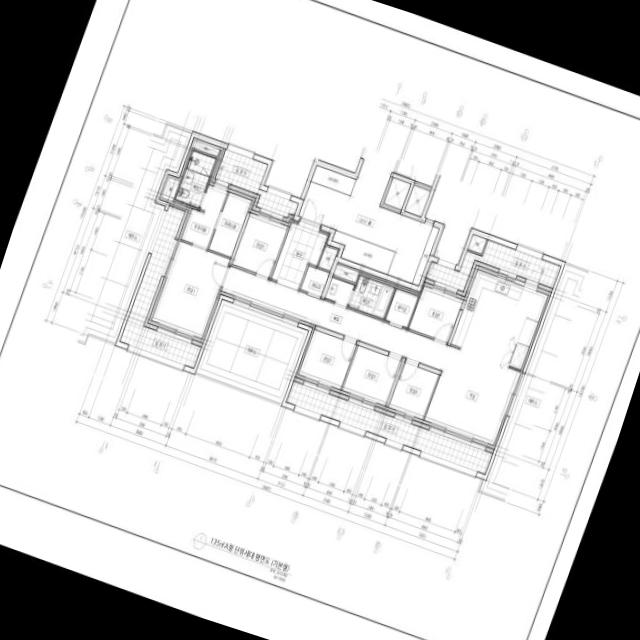background: (0, 0, 640, 640)
space_balconi: (286, 381, 492, 474), (119, 206, 200, 368), (425, 240, 561, 291), (215, 149, 298, 217)
space_bedroom: (147, 241, 230, 342), (295, 328, 356, 392), (341, 345, 401, 409), (232, 210, 289, 277), (409, 282, 464, 342), (387, 362, 438, 422)
space_dressroom: (208, 189, 255, 257), (181, 181, 228, 248)
space_elevator_hall: (298, 148, 432, 283)
space_front: (271, 219, 330, 290)
space_kitchen: (450, 265, 551, 371)
space_living_room: (220, 266, 519, 449)
space_multipurpose_space: (385, 289, 418, 327)
space_other: (332, 230, 395, 274), (412, 226, 439, 285), (311, 165, 356, 195), (300, 265, 329, 296), (325, 277, 354, 306), (384, 177, 410, 209), (405, 185, 430, 216), (159, 174, 180, 203), (190, 137, 220, 156), (318, 245, 339, 270), (333, 262, 359, 282), (468, 234, 486, 253)
space_toilet: (175, 150, 215, 207), (349, 275, 394, 318)
